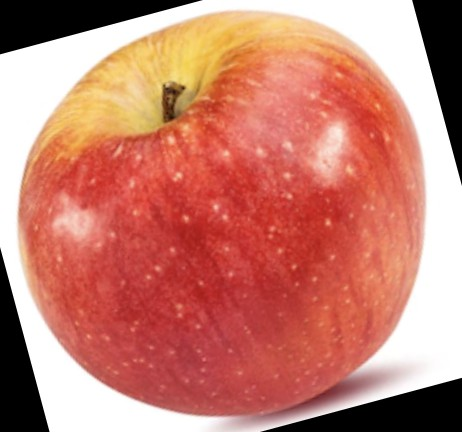fresh_apple: (18, 10, 428, 415)
